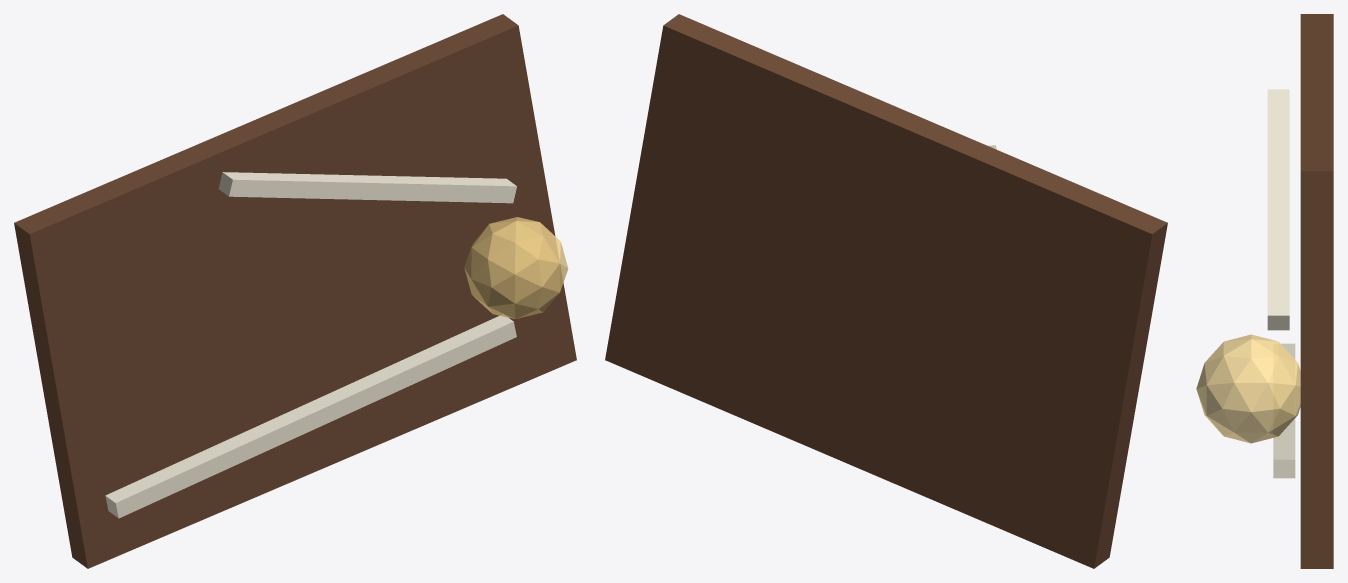
The model's file is 02_world_prop_polish.glb.
The picture shows the model from 3 angles, left to right: view 1: azimuth 30°, elevation 25°; view 2: azimuth 150°, elevation 25°; view 3: azimuth 270°, elevation 25°; orthographic projection. The views are drawn at different scales.
Visible parts, largest first — view 1: object_overlay_plate, edge_wear_a, glow_socket, edge_wear_b; view 2: object_overlay_plate; view 3: object_overlay_plate, glow_socket, edge_wear_b, edge_wear_a.
Boxes of the visible parts, box(x1,y1,x2,y2) form: object_overlay_plate: box(14, 14, 576, 568); edge_wear_a: box(105, 315, 516, 518); glow_socket: box(464, 217, 568, 319); edge_wear_b: box(218, 172, 516, 203); object_overlay_plate: box(605, 14, 1167, 568); object_overlay_plate: box(1300, 14, 1333, 568); glow_socket: box(1196, 334, 1300, 443); edge_wear_b: box(1267, 89, 1289, 330); edge_wear_a: box(1273, 343, 1295, 478).
Size of the model in its own units: 1.21 by 0.9283 by 0.25.
